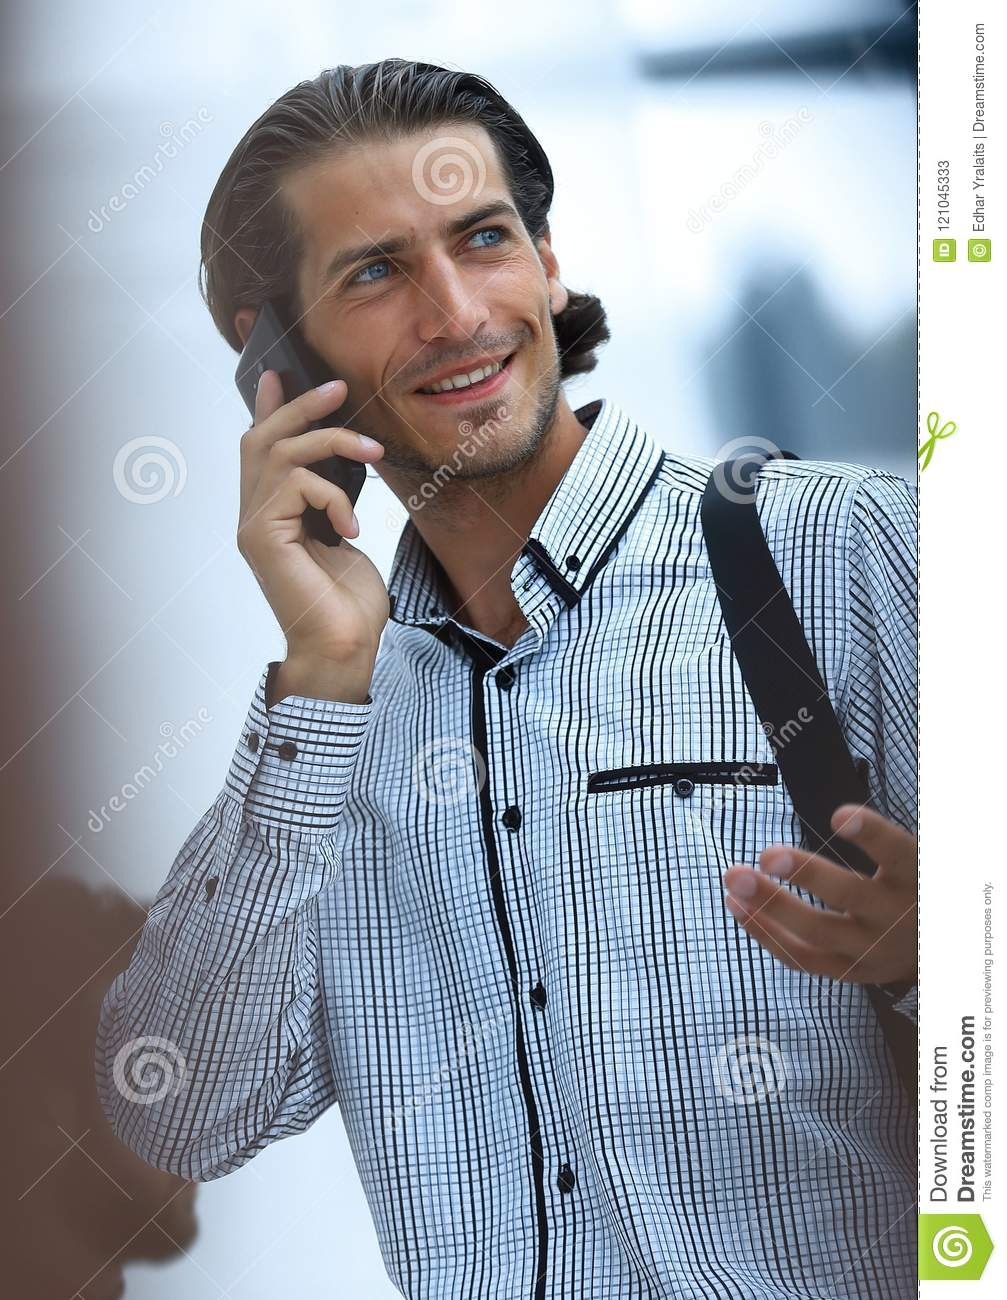phone: (233, 303, 370, 563)
talk: (229, 177, 557, 683)
